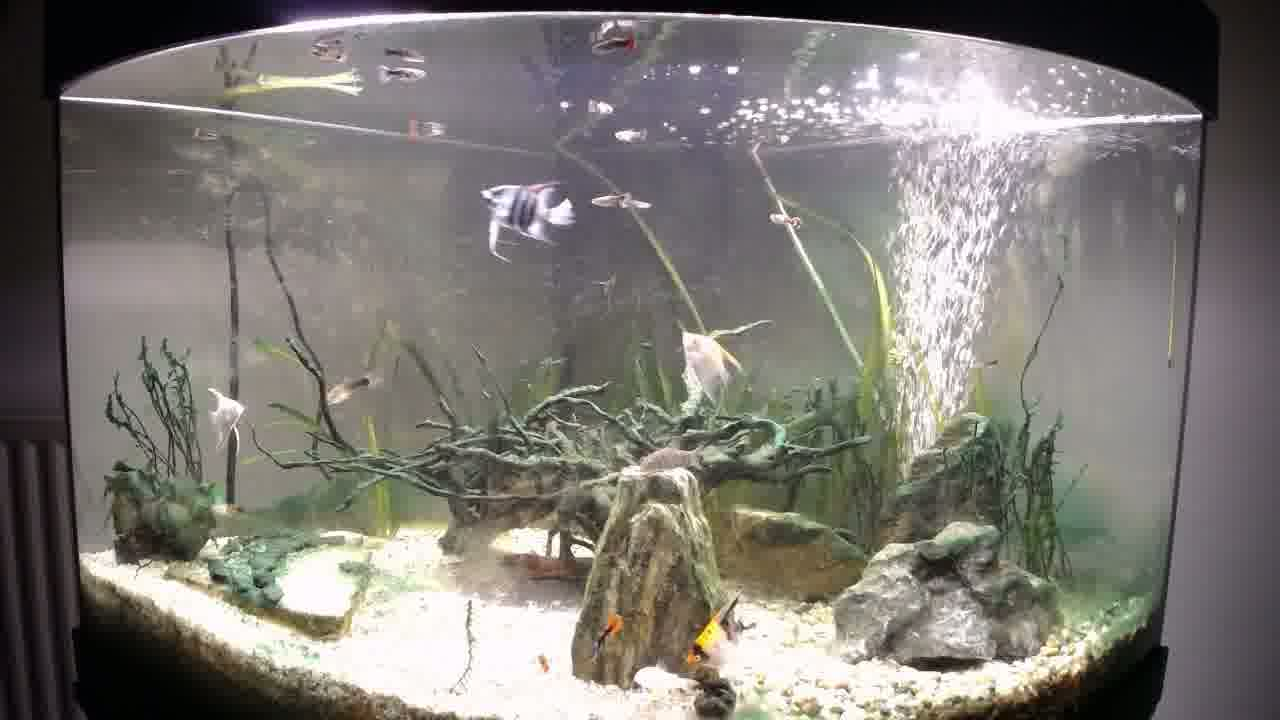Ancistrus: (469, 549, 574, 586)
Botia_Striata: (627, 441, 704, 479)
Corydoras_Albinos: (632, 661, 702, 700)
G_Matriarche: (320, 367, 385, 410)
Pterophyllum_Scalare_BB: (476, 178, 574, 265)
Pterophyllum_Scalare_W: (200, 384, 252, 455)
Pterophyllum_Scalare_Y: (675, 326, 744, 397)
Pterophyllum_Scalare_YWB: (688, 589, 752, 672)
